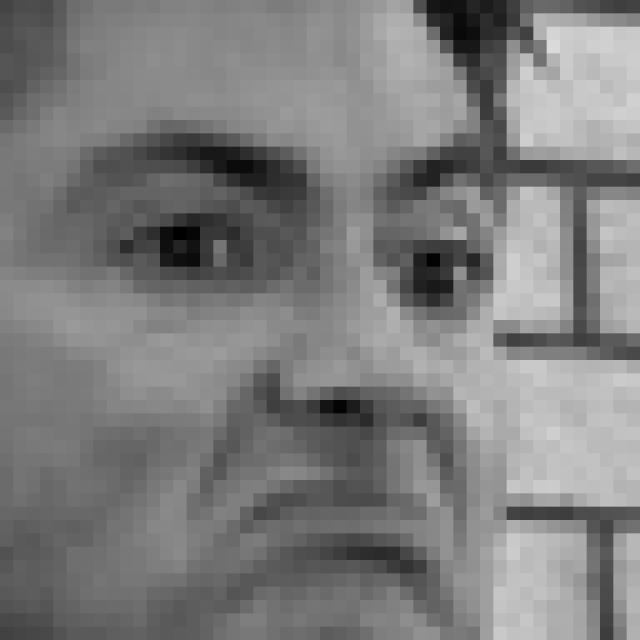disgust: (37, 124, 509, 640)
